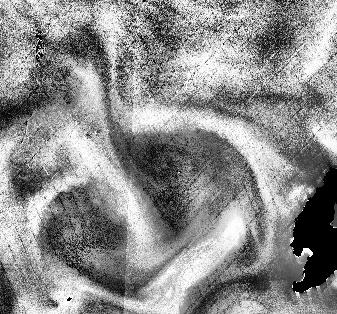AE: (25, 165, 151, 280)
